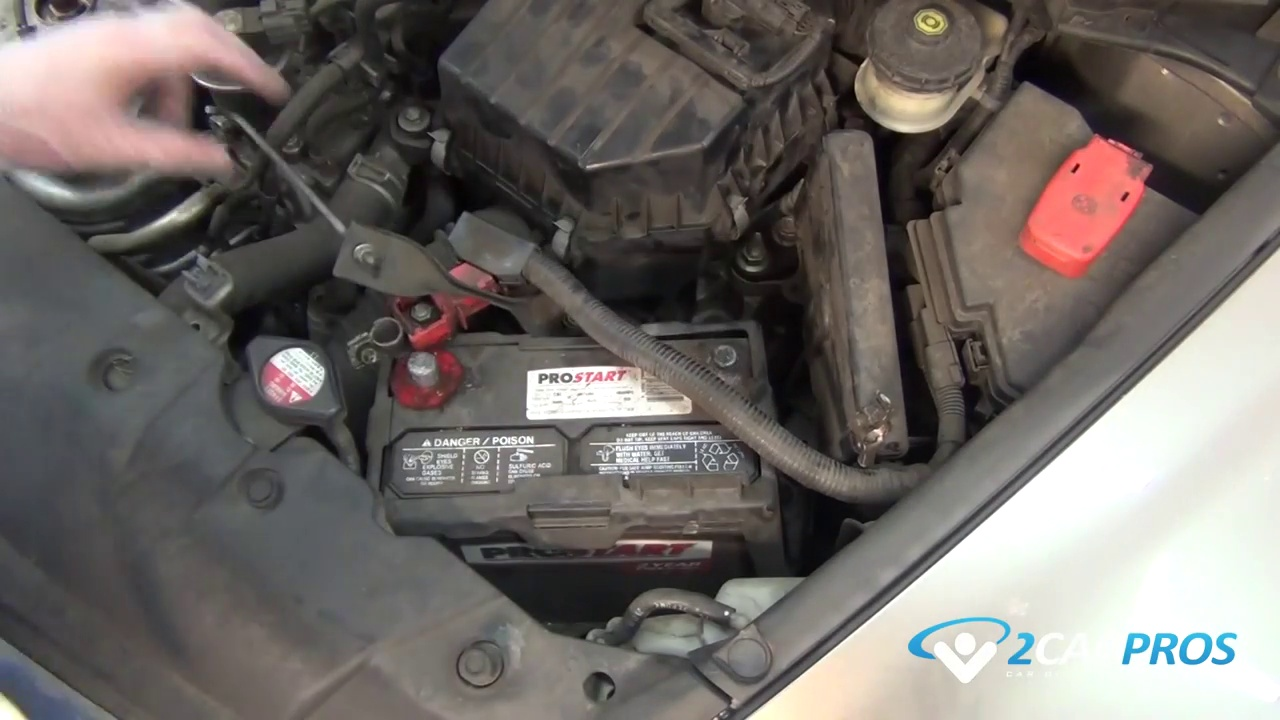battery: (368, 327, 764, 513)
neg_disconnected: (689, 322, 759, 388)
pos_disconnected: (365, 283, 470, 401)
